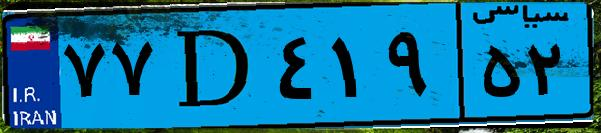1: (330, 28, 385, 110)
2: (525, 38, 570, 115)
4: (270, 28, 330, 110)
5: (475, 38, 525, 113)
7: (57, 26, 110, 100), (110, 28, 158, 98)
9: (385, 28, 445, 110)
D: (158, 12, 270, 120)
